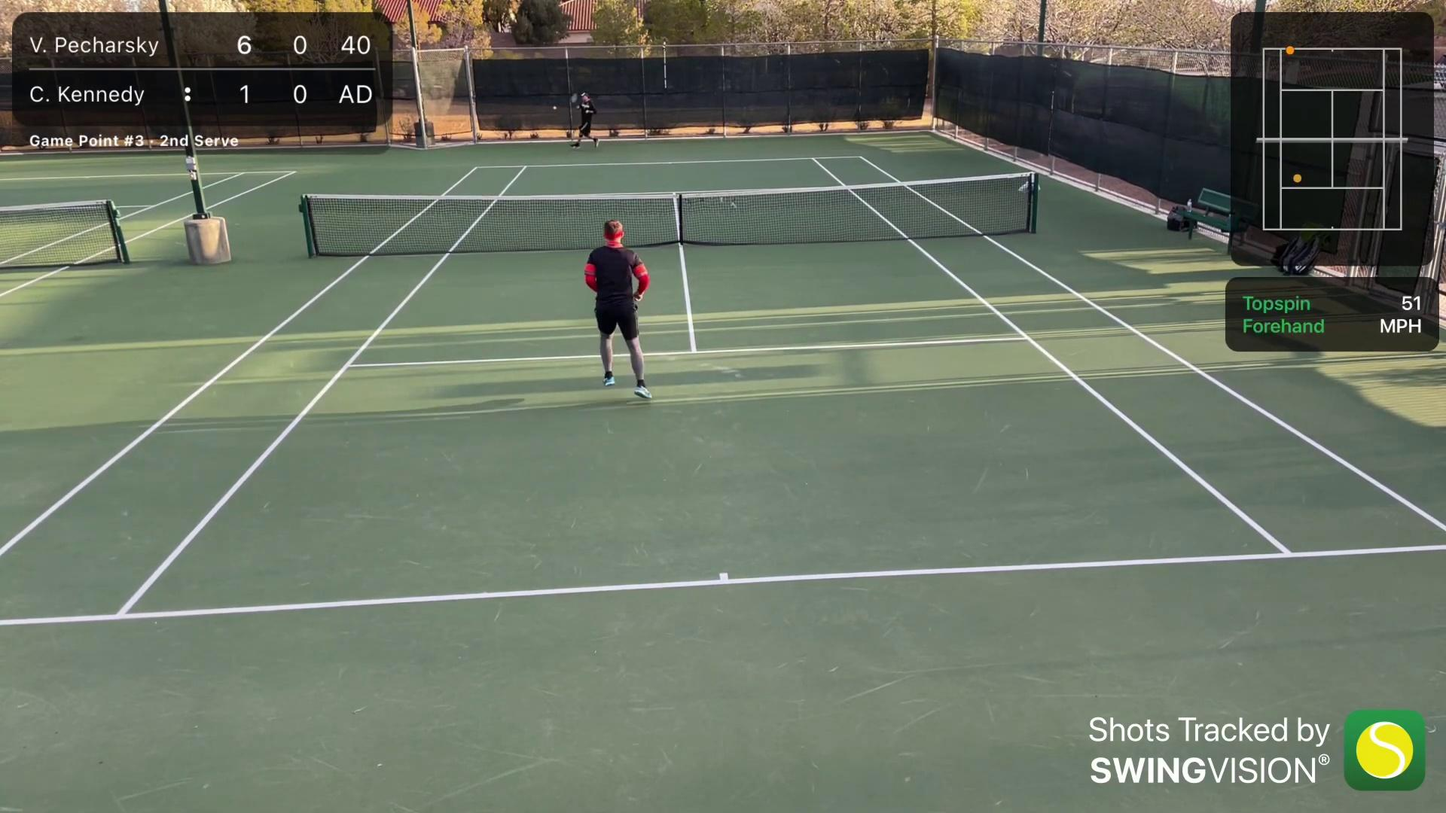ball: (552, 105, 557, 110)
